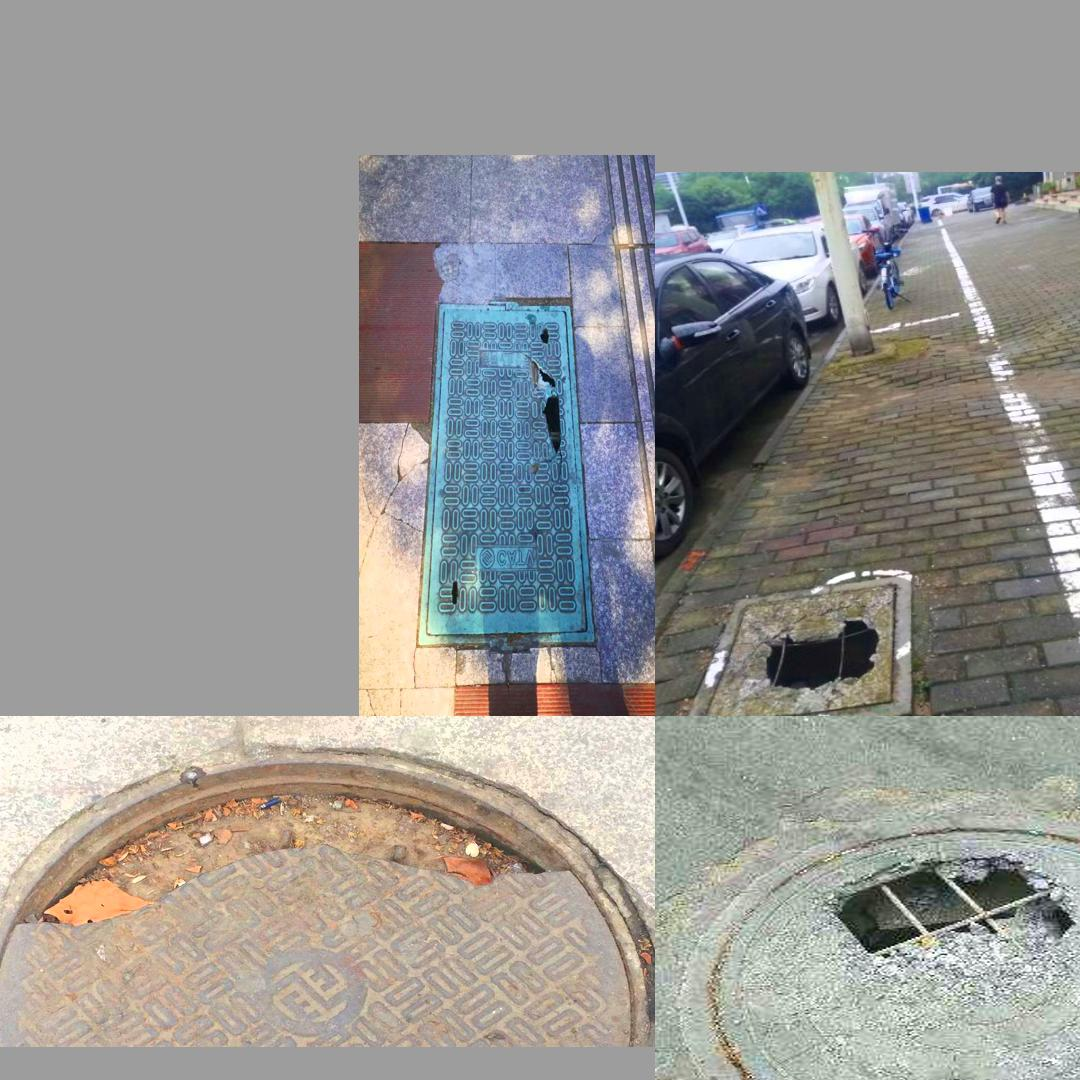broke: (0, 735, 650, 1038), (688, 827, 1080, 1080), (419, 301, 595, 645), (683, 573, 914, 716)
